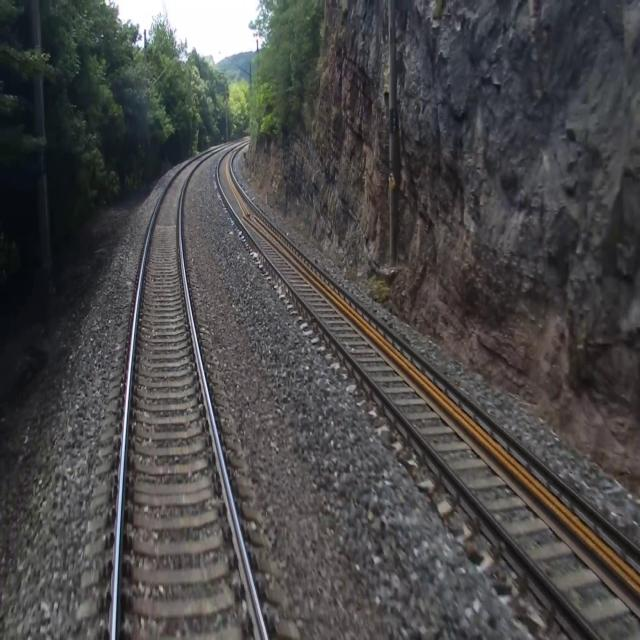rail-track: (218, 140, 640, 639), (114, 136, 263, 639)
